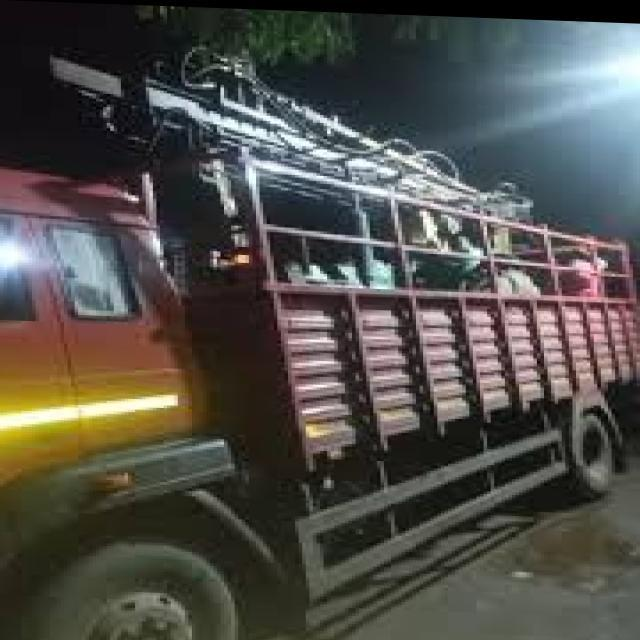uncovered: (0, 63, 633, 640)
